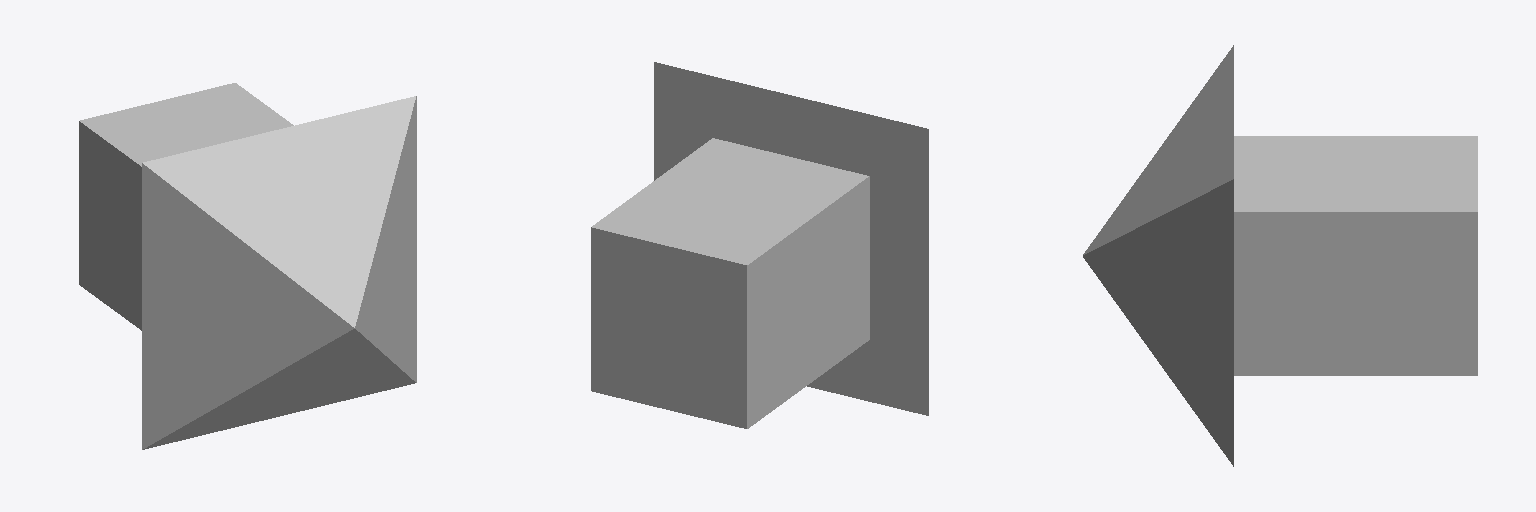
The model's file is purple roof thing.obj.
3 views of the same model, side by side, from view 1: azimuth 30°, elevation 25°; view 2: azimuth 150°, elevation 25°; view 3: azimuth 270°, elevation 25° (orthographic).
Parts seen in each view (by area): view 1: Object.1; view 2: Object.1; view 3: Object.1.
Boxes of the visible parts, <box> form: Object.1: <box>79,83,416,449</box>; Object.1: <box>591,62,928,428</box>; Object.1: <box>1083,45,1477,466</box>.
Size of the model in its own units: 12.85 by 12.85 by 16.04.